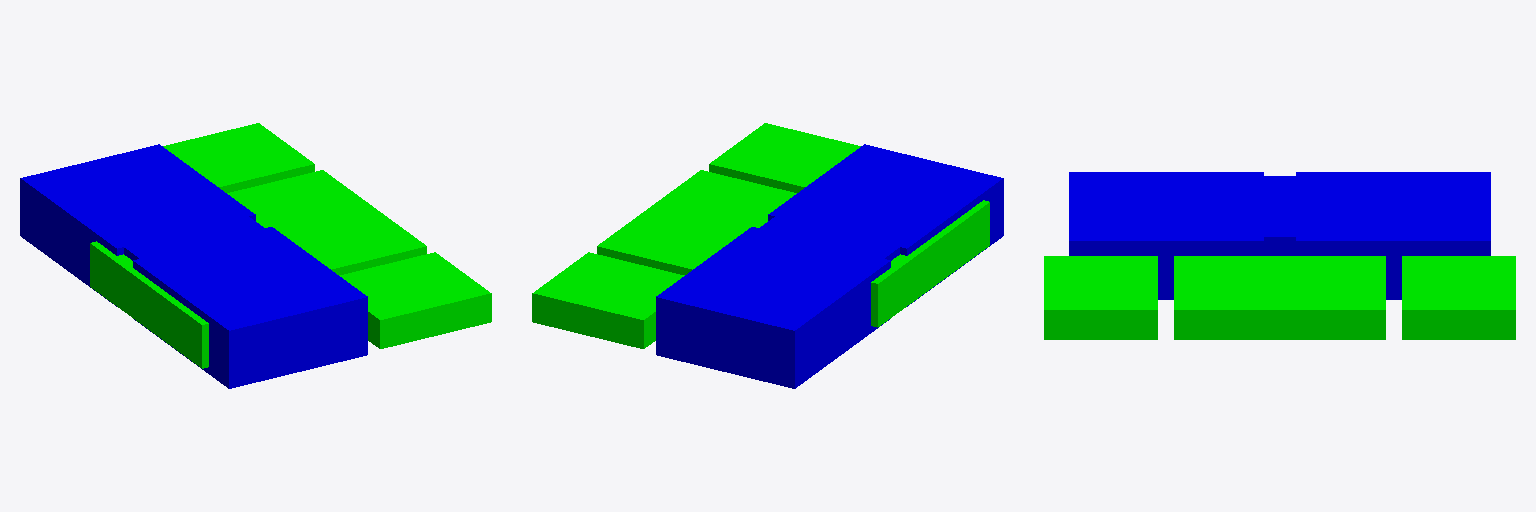
--- What the picture shows (computed from the rendered views, not written in the file) ---
The picture shows the robot from 3 angles, left to right: view 1: azimuth 30°, elevation 25°; view 2: azimuth 150°, elevation 25°; view 3: azimuth 270°, elevation 25°; orthographic projection.
Robot: robot — 32 links, 31 joints (31 revolute); root link root; default pose: every joint at zero.
Links seen in each view (by area): view 1: [phone redacted] (×26), 000, 010, 010-100, 010-110, 010-120; view 2: [phone redacted] (×26), 010, 000, 010-100, 010-110, 010-120; view 3: [phone redacted] (×26), 010-120, 010-110, 010-100.
Boxes of the visible links, box(x1,y1,x2,y2) form: [phone redacted] (×26): box(20, 123, 491, 388); 000: box(146, 283, 208, 368); 010: box(90, 241, 152, 326); 010-100: box(124, 237, 180, 260); 010-110: box(166, 227, 222, 248); 010-120: box(208, 217, 263, 237); [phone redacted] (×26): box(532, 123, 1003, 388); 010: box(871, 241, 933, 327); 000: box(928, 200, 989, 285); 010-100: box(843, 237, 899, 260); 010-110: box(801, 227, 857, 248); 010-120: box(760, 217, 815, 237); [phone redacted] (×26): box(1044, 172, 1515, 339); 010-120: box(1264, 217, 1295, 255); 010-110: box(1264, 196, 1295, 216); 010-100: box(1264, 176, 1295, 195).
Bounding box of the posed robot: 1.85 × 2.9 × 0.4 m (x, y, z).
Geometry: primitives only (box / cylinder / sphere), no mesh files.

robot.urdf — robot:
<robot name = "robot">
    <link name="root">
        <inertial>
            <origin xyz="0.0 0.0 1.5" rpy="0 0 0"/>
            <mass value="1" />
            <inertia ixx="100" ixy="0" ixz="0" iyy="100" iyz="0" izz="100" />
        </inertial>
        <visual>
            <origin xyz="0.0 0.0 1.5" rpy="0 0 0"/>
            <geometry>
                <box size="0 0 0.0001" />
            </geometry>
            <material name="Green">
                <color rgba="0 1.0 0.0 1.0"/>
            </material>
        </visual>
        <collision>
            <origin xyz="0.0 0.0 1.5" rpy="0 0 0"/>
            <geometry>
                <box size="0 0 0.0001" />
            </geometry>
        </collision>
    </link>
    <joint name="root_000" type="revolute">
       <parent link="root"/>
       <child  link="000"/>
       <origin rpy="0 0 0" xyz="0.0 0.0 1.5" />
     <axis xyz="1 0 0"/>
       <limit effort="0.0" lower="-3.14159" upper="3.14159" velocity="0.0"/>
    </joint>
    <link name="000">
        <inertial>
            <origin xyz="0.0 0.35 0.0" rpy="0 0 0"/>
            <mass value="1" />
            <inertia ixx="100" ixy="0" ixz="0" iyy="100" iyz="0" izz="100" />
        </inertial>
        <visual>
            <origin xyz="0.0 0.35 0.0" rpy="0 0 0"/>
            <geometry>
                <box size="0.1 0.7 0.3" />
            </geometry>
            <material name="Green">
                <color rgba="0 1.0 0.0 1.0"/>
            </material>
        </visual>
        <collision>
            <origin xyz="0.0 0.35 0.0" rpy="0 0 0"/>
            <geometry>
                <box size="0.1 0.7 0.3" />
            </geometry>
        </collision>
    </link>
    <joint name="000_010" type="revolute">
       <parent link="000"/>
       <child  link="010"/>
       <origin rpy="0 0 0" xyz="0.0 0.7 -0.0" />
     <axis xyz="0 1 0"/>
       <limit effort="0.0" lower="-3.14159" upper="3.14159" velocity="0.0"/>
    </joint>
    <link name="010">
        <inertial>
            <origin xyz="0.0 0.35 -0.0" rpy="0 0 0"/>
            <mass value="1" />
            <inertia ixx="100" ixy="0" ixz="0" iyy="100" iyz="0" izz="100" />
        </inertial>
        <visual>
            <origin xyz="0.0 0.35 -0.0" rpy="0 0 0"/>
            <geometry>
                <box size="0.1 0.7 0.3" />
            </geometry>
            <material name="Green">
                <color rgba="0 1.0 0.0 1.0"/>
            </material>
        </visual>
        <collision>
            <origin xyz="0.0 0.35 -0.0" rpy="0 0 0"/>
            <geometry>
                <box size="0.1 0.7 0.3" />
            </geometry>
        </collision>
    </link>
    <joint name="010_010-100" type="revolute">
       <parent link="010"/>
       <child  link="010-100"/>
       <origin rpy="0 0 0" xyz="0.05 0.35 -0.0" />
     <axis xyz="1 0 0"/>
       <limit effort="0.0" lower="-3.14159" upper="3.14159" velocity="0.0"/>
    </joint>
    <link name="010-100">
        <inertial>
            <origin xyz="0.15 0.0 -0.0" rpy="0 0 0"/>
            <mass value="1" />
            <inertia ixx="100" ixy="0" ixz="0" iyy="100" iyz="0" izz="100" />
        </inertial>
        <visual>
            <origin xyz="0.15 0.0 -0.0" rpy="0 0 0"/>
            <geometry>
                <box size="0.3 0.2 0.4" />
            </geometry>
            <material name="Blue">
                <color rgba="0 0.0 1.0 1.0"/>
            </material>
        </visual>
        <collision>
            <origin xyz="0.15 0.0 -0.0" rpy="0 0 0"/>
            <geometry>
                <box size="0.3 0.2 0.4" />
            </geometry>
        </collision>
    </link>
    <joint name="010-100_010-110" type="revolute">
       <parent link="010-100"/>
       <child  link="010-110"/>
       <origin rpy="0 0 0" xyz="0.3 0.0 -0.0" />
     <axis xyz="1 0 0"/>
       <limit effort="0.0" lower="-3.14159" upper="3.14159" velocity="0.0"/>
    </joint>
    <link name="010-110">
        <inertial>
            <origin xyz="0.15 0.0 -0.0" rpy="0 0 0"/>
            <mass value="1" />
            <inertia ixx="100" ixy="0" ixz="0" iyy="100" iyz="0" izz="100" />
        </inertial>
        <visual>
            <origin xyz="0.15 0.0 -0.0" rpy="0 0 0"/>
            <geometry>
                <box size="0.3 0.2 0.4" />
            </geometry>
            <material name="Blue">
                <color rgba="0 0.0 1.0 1.0"/>
            </material>
        </visual>
        <collision>
            <origin xyz="0.15 0.0 -0.0" rpy="0 0 0"/>
            <geometry>
                <box size="0.3 0.2 0.4" />
            </geometry>
        </collision>
    </link>
    <joint name="010-110_010-120" type="revolute">
       <parent link="010-110"/>
       <child  link="010-120"/>
       <origin rpy="0 0 0" xyz="0.3 0.0 -0.0" />
     <axis xyz="1 0 0"/>
       <limit effort="0.0" lower="-3.14159" upper="3.14159" velocity="0.0"/>
    </joint>
    <link name="010-120">
        <inertial>
            <origin xyz="0.15 0.0 -0.0" rpy="0 0 0"/>
            <mass value="1" />
            <inertia ixx="100" ixy="0" ixz="0" iyy="100" iyz="0" izz="100" />
        </inertial>
        <visual>
            <origin xyz="0.15 0.0 -0.0" rpy="0 0 0"/>
            <geometry>
                <box size="0.3 0.2 0.4" />
            </geometry>
            <material name="Blue">
                <color rgba="0 0.0 1.0 1.0"/>
            </material>
        </visual>
        <collision>
            <origin xyz="0.15 0.0 -0.0" rpy="0 0 0"/>
            <geometry>
                <box size="0.3 0.2 0.4" />
            </geometry>
        </collision>
    </link>
    <joint name="010-120_010-120-200" type="revolute">
       <parent link="010-120"/>
       <child  link="010-120-200"/>
       <origin rpy="0 0 0" xyz="0.15 0.1 -0.0" />
     <axis xyz="0 1 0"/>
       <limit effort="0.0" lower="-3.14159" upper="3.14159" velocity="0.0"/>
    </joint>
    <link name="010-120-200">
        <inertial>
            <origin xyz="0.0 0.2 -0.0" rpy="0 0 0"/>
            <mass value="1" />
            <inertia ixx="100" ixy="0" ixz="0" iyy="100" iyz="0" izz="100" />
        </inertial>
        <visual>
            <origin xyz="0.0 0.2 -0.0" rpy="0 0 0"/>
            <geometry>
                <box size="0.4 0.4 0.4" />
            </geometry>
            <material name="Blue">
                <color rgba="0 0.0 1.0 1.0"/>
            </material>
        </visual>
        <collision>
            <origin xyz="0.0 0.2 -0.0" rpy="0 0 0"/>
            <geometry>
                <box size="0.4 0.4 0.4" />
            </geometry>
        </collision>
    </link>
    <joint name="010-120-200_010-120-210" type="revolute">
       <parent link="010-120-200"/>
       <child  link="010-120-210"/>
       <origin rpy="0 0 0" xyz="0.0 0.4 -0.0" />
     <axis xyz="0 1 0"/>
       <limit effort="0.0" lower="-3.14159" upper="3.14159" velocity="0.0"/>
    </joint>
    <link name="010-120-210">
        <inertial>
            <origin xyz="0.0 0.2 -0.0" rpy="0 0 0"/>
            <mass value="1" />
            <inertia ixx="100" ixy="0" ixz="0" iyy="100" iyz="0" izz="100" />
        </inertial>
        <visual>
            <origin xyz="0.0 0.2 -0.0" rpy="0 0 0"/>
            <geometry>
                <box size="0.4 0.4 0.4" />
            </geometry>
            <material name="Blue">
                <color rgba="0 0.0 1.0 1.0"/>
            </material>
        </visual>
        <collision>
            <origin xyz="0.0 0.2 -0.0" rpy="0 0 0"/>
            <geometry>
                <box size="0.4 0.4 0.4" />
            </geometry>
        </collision>
    </link>
    <joint name="010-120-210_010-120-220" type="revolute">
       <parent link="010-120-210"/>
       <child  link="010-120-220"/>
       <origin rpy="0 0 0" xyz="0.0 0.4 -0.0" />
     <axis xyz="0 1 0"/>
       <limit effort="0.0" lower="-3.14159" upper="3.14159" velocity="0.0"/>
    </joint>
    <link name="010-120-220">
        <inertial>
            <origin xyz="0.0 0.2 -0.0" rpy="0 0 0"/>
            <mass value="1" />
            <inertia ixx="100" ixy="0" ixz="0" iyy="100" iyz="0" izz="100" />
        </inertial>
        <visual>
            <origin xyz="0.0 0.2 -0.0" rpy="0 0 0"/>
            <geometry>
                <box size="0.4 0.4 0.4" />
            </geometry>
            <material name="Blue">
                <color rgba="0 0.0 1.0 1.0"/>
            </material>
        </visual>
        <collision>
            <origin xyz="0.0 0.2 -0.0" rpy="0 0 0"/>
            <geometry>
                <box size="0.4 0.4 0.4" />
            </geometry>
        </collision>
    </link>
    <joint name="010-120-220_010-120-220-300" type="revolute">
       <parent link="010-120-220"/>
       <child  link="010-120-220-300"/>
       <origin rpy="0 0 0" xyz="0.2 0.2 -0.0" />
     <axis xyz="1 0 0"/>
       <limit effort="0.0" lower="-3.14159" upper="3.14159" velocity="0.0"/>
    </joint>
    <link name="010-120-220-300">
        <inertial>
            <origin xyz="0.2 0.0 -0.0" rpy="0 0 0"/>
            <mass value="1" />
            <inertia ixx="100" ixy="0" ixz="0" iyy="100" iyz="0" izz="100" />
        </inertial>
        <visual>
            <origin xyz="0.2 0.0 -0.0" rpy="0 0 0"/>
            <geometry>
                <box size="0.4 0.7 0.2" />
            </geometry>
            <material name="Green">
                <color rgba="0 1.0 0.0 1.0"/>
            </material>
        </visual>
        <collision>
            <origin xyz="0.2 0.0 -0.0" rpy="0 0 0"/>
            <geometry>
                <box size="0.4 0.7 0.2" />
            </geometry>
        </collision>
    </link>
    <joint name="010-120-220-300_010-120-220-310" type="revolute">
       <parent link="010-120-220-300"/>
       <child  link="010-120-220-310"/>
       <origin rpy="0 0 0" xyz="0.4 0.0 -0.0" />
     <axis xyz="1 0 0"/>
       <limit effort="0.0" lower="-3.14159" upper="3.14159" velocity="0.0"/>
    </joint>
    <link name="010-120-220-310">
        <inertial>
            <origin xyz="0.2 0.0 -0.0" rpy="0 0 0"/>
            <mass value="1" />
            <inertia ixx="100" ixy="0" ixz="0" iyy="100" iyz="0" izz="100" />
        </inertial>
        <visual>
            <origin xyz="0.2 0.0 -0.0" rpy="0 0 0"/>
            <geometry>
                <box size="0.4 0.7 0.2" />
            </geometry>
            <material name="Green">
                <color rgba="0 1.0 0.0 1.0"/>
            </material>
        </visual>
        <collision>
            <origin xyz="0.2 0.0 -0.0" rpy="0 0 0"/>
            <geometry>
                <box size="0.4 0.7 0.2" />
            </geometry>
        </collision>
    </link>
    <joint name="010-120-200_010-120-200-300" type="revolute">
       <parent link="010-120-200"/>
       <child  link="010-120-200-300"/>
       <origin rpy="0 0 0" xyz="0.2 0.2 -0.0" />
     <axis xyz="1 0 0"/>
       <limit effort="0.0" lower="-3.14159" upper="3.14159" velocity="0.0"/>
    </joint>
    <link name="010-120-200-300">
        <inertial>
            <origin xyz="0.2 0.0 -0.0" rpy="0 0 0"/>
            <mass value="1" />
            <inertia ixx="100" ixy="0" ixz="0" iyy="100" iyz="0" izz="100" />
        </inertial>
        <visual>
            <origin xyz="0.2 0.0 -0.0" rpy="0 0 0"/>
            <geometry>
                <box size="0.4 0.7 0.2" />
            </geometry>
            <material name="Green">
                <color rgba="0 1.0 0.0 1.0"/>
            </material>
        </visual>
        <collision>
            <origin xyz="0.2 0.0 -0.0" rpy="0 0 0"/>
            <geometry>
                <box size="0.4 0.7 0.2" />
            </geometry>
        </collision>
    </link>
    <joint name="010-120-200-300_010-120-200-310" type="revolute">
       <parent link="010-120-200-300"/>
       <child  link="010-120-200-310"/>
       <origin rpy="0 0 0" xyz="0.4 0.0 -0.0" />
     <axis xyz="1 0 0"/>
       <limit effort="0.0" lower="-3.14159" upper="3.14159" velocity="0.0"/>
    </joint>
    <link name="010-120-200-310">
        <inertial>
            <origin xyz="0.2 0.0 -0.0" rpy="0 0 0"/>
            <mass value="1" />
            <inertia ixx="100" ixy="0" ixz="0" iyy="100" iyz="0" izz="100" />
        </inertial>
        <visual>
            <origin xyz="0.2 0.0 -0.0" rpy="0 0 0"/>
            <geometry>
                <box size="0.4 0.7 0.2" />
            </geometry>
            <material name="Green">
                <color rgba="0 1.0 0.0 1.0"/>
            </material>
        </visual>
        <collision>
            <origin xyz="0.2 0.0 -0.0" rpy="0 0 0"/>
            <geometry>
                <box size="0.4 0.7 0.2" />
            </geometry>
        </collision>
    </link>
    <joint name="010-120_010-120-201" type="revolute">
       <parent link="010-120"/>
       <child  link="010-120-201"/>
       <origin rpy="0 0 0" xyz="0.15 -0.1 -0.0" />
     <axis xyz="0 1 0"/>
       <limit effort="0.0" lower="-3.14159" upper="3.14159" velocity="0.0"/>
    </joint>
    <link name="010-120-201">
        <inertial>
            <origin xyz="0.0 -0.2 -0.0" rpy="0 0 0"/>
            <mass value="1" />
            <inertia ixx="100" ixy="0" ixz="0" iyy="100" iyz="0" izz="100" />
        </inertial>
        <visual>
            <origin xyz="0.0 -0.2 -0.0" rpy="0 0 0"/>
            <geometry>
                <box size="0.4 0.4 0.4" />
            </geometry>
            <material name="Blue">
                <color rgba="0 0.0 1.0 1.0"/>
            </material>
        </visual>
        <collision>
            <origin xyz="0.0 -0.2 -0.0" rpy="0 0 0"/>
            <geometry>
                <box size="0.4 0.4 0.4" />
            </geometry>
        </collision>
    </link>
    <joint name="010-120-201_010-120-211" type="revolute">
       <parent link="010-120-201"/>
       <child  link="010-120-211"/>
       <origin rpy="0 0 0" xyz="0.0 -0.4 -0.0" />
     <axis xyz="0 1 0"/>
       <limit effort="0.0" lower="-3.14159" upper="3.14159" velocity="0.0"/>
    </joint>
    <link name="010-120-211">
        <inertial>
            <origin xyz="0.0 -0.2 -0.0" rpy="0 0 0"/>
            <mass value="1" />
            <inertia ixx="100" ixy="0" ixz="0" iyy="100" iyz="0" izz="100" />
        </inertial>
        <visual>
            <origin xyz="0.0 -0.2 -0.0" rpy="0 0 0"/>
            <geometry>
                <box size="0.4 0.4 0.4" />
            </geometry>
            <material name="Blue">
                <color rgba="0 0.0 1.0 1.0"/>
            </material>
        </visual>
        <collision>
            <origin xyz="0.0 -0.2 -0.0" rpy="0 0 0"/>
            <geometry>
                <box size="0.4 0.4 0.4" />
            </geometry>
        </collision>
    </link>
    <joint name="010-120-211_010-120-221" type="revolute">
       <parent link="010-120-211"/>
       <child  link="010-120-221"/>
       <origin rpy="0 0 0" xyz="0.0 -0.4 -0.0" />
     <axis xyz="0 1 0"/>
       <limit effort="0.0" lower="-3.14159" upper="3.14159" velocity="0.0"/>
    </joint>
    <link name="010-120-221">
        <inertial>
            <origin xyz="0.0 -0.2 -0.0" rpy="0 0 0"/>
            <mass value="1" />
            <inertia ixx="100" ixy="0" ixz="0" iyy="100" iyz="0" izz="100" />
        </inertial>
        <visual>
            <origin xyz="0.0 -0.2 -0.0" rpy="0 0 0"/>
            <geometry>
                <box size="0.4 0.4 0.4" />
            </geometry>
            <material name="Blue">
                <color rgba="0 0.0 1.0 1.0"/>
            </material>
        </visual>
        <collision>
            <origin xyz="0.0 -0.2 -0.0" rpy="0 0 0"/>
            <geometry>
                <box size="0.4 0.4 0.4" />
            </geometry>
        </collision>
    </link>
    <joint name="010-120-221_010-120-221-300" type="revolute">
       <parent link="010-120-221"/>
       <child  link="010-120-221-300"/>
       <origin rpy="0 0 0" xyz="0.2 -0.2 -0.0" />
     <axis xyz="1 0 0"/>
       <limit effort="0.0" lower="-3.14159" upper="3.14159" velocity="0.0"/>
    </joint>
    <link name="010-120-221-300">
        <inertial>
            <origin xyz="0.2 -0.0 -0.0" rpy="0 0 0"/>
            <mass value="1" />
            <inertia ixx="100" ixy="0" ixz="0" iyy="100" iyz="0" izz="100" />
        </inertial>
        <visual>
            <origin xyz="0.2 -0.0 -0.0" rpy="0 0 0"/>
            <geometry>
                <box size="0.4 0.7 0.2" />
            </geometry>
            <material name="Green">
                <color rgba="0 1.0 0.0 1.0"/>
            </material>
        </visual>
        <collision>
            <origin xyz="0.2 -0.0 -0.0" rpy="0 0 0"/>
            <geometry>
                <box size="0.4 0.7 0.2" />
            </geometry>
        </collision>
    </link>
    <joint name="010-120-221-300_010-120-221-310" type="revolute">
       <parent link="010-120-221-300"/>
       <child  link="010-120-221-310"/>
       <origin rpy="0 0 0" xyz="0.4 -0.0 -0.0" />
     <axis xyz="1 0 0"/>
       <limit effort="0.0" lower="-3.14159" upper="3.14159" velocity="0.0"/>
    </joint>
    <link name="010-120-221-310">
        <inertial>
            <origin xyz="0.2 -0.0 -0.0" rpy="0 0 0"/>
            <mass value="1" />
            <inertia ixx="100" ixy="0" ixz="0" iyy="100" iyz="0" izz="100" />
        </inertial>
        <visual>
            <origin xyz="0.2 -0.0 -0.0" rpy="0 0 0"/>
            <geometry>
                <box size="0.4 0.7 0.2" />
            </geometry>
            <material name="Green">
                <color rgba="0 1.0 0.0 1.0"/>
            </material>
        </visual>
        <collision>
            <origin xyz="0.2 -0.0 -0.0" rpy="0 0 0"/>
            <geometry>
                <box size="0.4 0.7 0.2" />
            </geometry>
        </collision>
    </link>
    <joint name="010-120-201_010-120-201-300" type="revolute">
       <parent link="010-120-201"/>
       <child  link="010-120-201-300"/>
       <origin rpy="0 0 0" xyz="0.2 -0.2 -0.0" />
     <axis xyz="1 0 0"/>
       <limit effort="0.0" lower="-3.14159" upper="3.14159" velocity="0.0"/>
    </joint>
    <link name="010-120-201-300">
        <inertial>
            <origin xyz="0.2 -0.0 -0.0" rpy="0 0 0"/>
            <mass value="1" />
            <inertia ixx="100" ixy="0" ixz="0" iyy="100" iyz="0" izz="100" />
        </inertial>
        <visual>
            <origin xyz="0.2 -0.0 -0.0" rpy="0 0 0"/>
            <geometry>
                <box size="0.4 0.7 0.2" />
            </geometry>
            <material name="Green">
                <color rgba="0 1.0 0.0 1.0"/>
            </material>
        </visual>
        <collision>
            <origin xyz="0.2 -0.0 -0.0" rpy="0 0 0"/>
            <geometry>
                <box size="0.4 0.7 0.2" />
            </geometry>
        </collision>
    </link>
    <joint name="010-120-201-300_010-120-201-310" type="revolute">
       <parent link="010-120-201-300"/>
       <child  link="010-120-201-310"/>
       <origin rpy="0 0 0" xyz="0.4 -0.0 -0.0" />
     <axis xyz="1 0 0"/>
       <limit effort="0.0" lower="-3.14159" upper="3.14159" velocity="0.0"/>
    </joint>
    <link name="010-120-201-310">
        <inertial>
            <origin xyz="0.2 -0.0 -0.0" rpy="0 0 0"/>
            <mass value="1" />
            <inertia ixx="100" ixy="0" ixz="0" iyy="100" iyz="0" izz="100" />
        </inertial>
        <visual>
            <origin xyz="0.2 -0.0 -0.0" rpy="0 0 0"/>
            <geometry>
                <box size="0.4 0.7 0.2" />
            </geometry>
            <material name="Green">
                <color rgba="0 1.0 0.0 1.0"/>
            </material>
        </visual>
        <collision>
            <origin xyz="0.2 -0.0 -0.0" rpy="0 0 0"/>
            <geometry>
                <box size="0.4 0.7 0.2" />
            </geometry>
        </collision>
    </link>
    <joint name="010-110_010-110-200" type="revolute">
       <parent link="010-110"/>
       <child  link="010-110-200"/>
       <origin rpy="0 0 0" xyz="0.15 0.1 -0.0" />
     <axis xyz="0 1 0"/>
       <limit effort="0.0" lower="-3.14159" upper="3.14159" velocity="0.0"/>
    </joint>
    <link name="010-110-200">
        <inertial>
            <origin xyz="0.0 0.2 -0.0" rpy="0 0 0"/>
            <mass value="1" />
            <inertia ixx="100" ixy="0" ixz="0" iyy="100" iyz="0" izz="100" />
        </inertial>
        <visual>
            <origin xyz="0.0 0.2 -0.0" rpy="0 0 0"/>
            <geometry>
                <box size="0.4 0.4 0.4" />
            </geometry>
            <material name="Blue">
                <color rgba="0 0.0 1.0 1.0"/>
            </material>
        </visual>
        <collision>
            <origin xyz="0.0 0.2 -0.0" rpy="0 0 0"/>
            <geometry>
                <box size="0.4 0.4 0.4" />
            </geometry>
        </collision>
    </link>
    <joint name="010-110-200_010-110-210" type="revolute">
       <parent link="010-110-200"/>
       <child  link="010-110-210"/>
       <origin rpy="0 0 0" xyz="0.0 0.4 -0.0" />
     <axis xyz="0 1 0"/>
       <limit effort="0.0" lower="-3.14159" upper="3.14159" velocity="0.0"/>
    </joint>
    <link name="010-110-210">
        <inertial>
            <origin xyz="0.0 0.2 -0.0" rpy="0 0 0"/>
            <mass value="1" />
            <inertia ixx="100" ixy="0" ixz="0" iyy="100" iyz="0" izz="100" />
        </inertial>
        <visual>
            <origin xyz="0.0 0.2 -0.0" rpy="0 0 0"/>
            <geometry>
                <box size="0.4 0.4 0.4" />
            </geometry>
            <material name="Blue">
                <color rgba="0 0.0 1.0 1.0"/>
            </material>
        </visual>
        <collision>
            <origin xyz="0.0 0.2 -0.0" rpy="0 0 0"/>
            <geometry>
                <box size="0.4 0.4 0.4" />
            </geometry>
        </collision>
    </link>
    <joint name="010-110-210_010-110-220" type="revolute">
       <parent link="010-110-210"/>
       <child  link="010-110-220"/>
       <origin rpy="0 0 0" xyz="0.0 0.4 -0.0" />
     <axis xyz="0 1 0"/>
       <limit effort="0.0" lower="-3.14159" upper="3.14159" velocity="0.0"/>
    </joint>
    <link name="010-110-220">
        <inertial>
            <origin xyz="0.0 0.2 -0.0" rpy="0 0 0"/>
            <mass value="1" />
            <inertia ixx="100" ixy="0" ixz="0" iyy="100" iyz="0" izz="100" />
        </inertial>
        <visual>
            <origin xyz="0.0 0.2 -0.0" rpy="0 0 0"/>
            <geometry>
                <box size="0.4 0.4 0.4" />
            </geometry>
            <material name="Blue">
                <color rgba="0 0.0 1.0 1.0"/>
            </material>
        </visual>
        <collision>
            <origin xyz="0.0 0.2 -0.0" rpy="0 0 0"/>
            <geometry>
                <box size="0.4 0.4 0.4" />
            </geometry>
        </collision>
    </link>
    <joint name="010-110_010-110-201" type="revolute">
       <parent link="010-110"/>
       <child  link="010-110-201"/>
       <origin rpy="0 0 0" xyz="0.15 -0.1 -0.0" />
     <axis xyz="0 1 0"/>
       <limit effort="0.0" lower="-3.14159" upper="3.14159" velocity="0.0"/>
    </joint>
    <link name="010-110-201">
        <inertial>
            <origin xyz="0.0 -0.2 -0.0" rpy="0 0 0"/>
            <mass value="1" />
            <inertia ixx="100" ixy="0" ixz="0" iyy="100" iyz="0" izz="100" />
        </inertial>
        <visual>
            <origin xyz="0.0 -0.2 -0.0" rpy="0 0 0"/>
            <geometry>
                <box size="0.4 0.4 0.4" />
            </geometry>
            <material name="Blue">
                <color rgba="0 0.0 1.0 1.0"/>
            </material>
        </visual>
        <collision>
            <origin xyz="0.0 -0.2 -0.0" rpy="0 0 0"/>
            <geometry>
                <box size="0.4 0.4 0.4" />
            </geometry>
        </collision>
    </link>
    <joint name="010-110-201_010-110-211" type="revolute">
       <parent link="010-110-201"/>
       <child  link="010-110-211"/>
       <origin rpy="0 0 0" xyz="0.0 -0.4 -0.0" />
     <axis xyz="0 1 0"/>
       <limit effort="0.0" lower="-3.14159" upper="3.14159" velocity="0.0"/>
    </joint>
    <link name="010-110-211">
        <inertial>
            <origin xyz="0.0 -0.2 -0.0" rpy="0 0 0"/>
            <mass value="1" />
            <inertia ixx="100" ixy="0" ixz="0" iyy="100" iyz="0" izz="100" />
        </inertial>
        <visual>
            <origin xyz="0.0 -0.2 -0.0" rpy="0 0 0"/>
            <geometry>
                <box size="0.4 0.4 0.4" />
            </geometry>
            <material name="Blue">
                <color rgba="0 0.0 1.0 1.0"/>
            </material>
        </visual>
        <collision>
            <origin xyz="0.0 -0.2 -0.0" rpy="0 0 0"/>
            <geometry>
                <box size="0.4 0.4 0.4" />
            </geometry>
        </collision>
    </link>
    <joint name="010-110-211_010-110-221" type="revolute">
       <parent link="010-110-211"/>
       <child  link="010-110-221"/>
       <origin rpy="0 0 0" xyz="0.0 -0.4 -0.0" />
     <axis xyz="0 1 0"/>
       <limit effort="0.0" lower="-3.14159" upper="3.14159" velocity="0.0"/>
    </joint>
    <link name="010-110-221">
        <inertial>
            <origin xyz="0.0 -0.2 -0.0" rpy="0 0 0"/>
            <mass value="1" />
            <inertia ixx="100" ixy="0" ixz="0" iyy="100" iyz="0" izz="100" />
        </inertial>
        <visual>
            <origin xyz="0.0 -0.2 -0.0" rpy="0 0 0"/>
            <geometry>
                <box size="0.4 0.4 0.4" />
            </geometry>
            <material name="Blue">
                <color rgba="0 0.0 1.0 1.0"/>
            </material>
        </visual>
        <collision>
            <origin xyz="0.0 -0.2 -0.0" rpy="0 0 0"/>
            <geometry>
                <box size="0.4 0.4 0.4" />
            </geometry>
        </collision>
    </link>
    <joint name="010-100_010-100-200" type="revolute">
       <parent link="010-100"/>
       <child  link="010-100-200"/>
       <origin rpy="0 0 0" xyz="0.15 0.1 -0.0" />
     <axis xyz="0 1 0"/>
       <limit effort="0.0" lower="-3.14159" upper="3.14159" velocity="0.0"/>
    </joint>
    <link name="010-100-200">
        <inertial>
            <origin xyz="0.0 0.2 -0.0" rpy="0 0 0"/>
            <mass value="1" />
            <inertia ixx="100" ixy="0" ixz="0" iyy="100" iyz="0" izz="100" />
        </inertial>
        <visual>
            <origin xyz="0.0 0.2 -0.0" rpy="0 0 0"/>
            <geometry>
                <box size="0.4 0.4 0.4" />
            </geometry>
            <material name="Blue">
                <color rgba="0 0.0 1.0 1.0"/>
            </material>
        </visual>
        <collision>
            <origin xyz="0.0 0.2 -0.0" rpy="0 0 0"/>
            <geometry>
                <box size="0.4 0.4 0.4" />
            </geometry>
        </collision>
    </link>
    <joint name="010-100-200_010-100-210" type="revolute">
       <parent link="010-100-200"/>
       <child  link="010-100-210"/>
       <origin rpy="0 0 0" xyz="0.0 0.4 -0.0" />
     <axis xyz="0 1 0"/>
       <limit effort="0.0" lower="-3.14159" upper="3.14159" velocity="0.0"/>
    </joint>
    <link name="010-100-210">
        <inertial>
            <origin xyz="0.0 0.2 -0.0" rpy="0 0 0"/>
            <mass value="1" />
            <inertia ixx="100" ixy="0" ixz="0" iyy="100" iyz="0" izz="100" />
        </inertial>
        <visual>
            <origin xyz="0.0 0.2 -0.0" rpy="0 0 0"/>
            <geometry>
                <box size="0.4 0.4 0.4" />
            </geometry>
            <material name="Blue">
                <color rgba="0 0.0 1.0 1.0"/>
            </material>
        </visual>
        <collision>
            <origin xyz="0.0 0.2 -0.0" rpy="0 0 0"/>
            <geometry>
                <box size="0.4 0.4 0.4" />
            </geometry>
        </collision>
    </link>
    <joint name="010-100-210_010-100-220" type="revolute">
       <parent link="010-100-210"/>
       <child  link="010-100-220"/>
       <origin rpy="0 0 0" xyz="0.0 0.4 -0.0" />
     <axis xyz="0 1 0"/>
       <limit effort="0.0" lower="-3.14159" upper="3.14159" velocity="0.0"/>
    </joint>
    <link name="010-100-220">
        <inertial>
            <origin xyz="0.0 0.2 -0.0" rpy="0 0 0"/>
            <mass value="1" />
            <inertia ixx="100" ixy="0" ixz="0" iyy="100" iyz="0" izz="100" />
        </inertial>
        <visual>
            <origin xyz="0.0 0.2 -0.0" rpy="0 0 0"/>
            <geometry>
                <box size="0.4 0.4 0.4" />
            </geometry>
            <material name="Blue">
                <color rgba="0 0.0 1.0 1.0"/>
            </material>
        </visual>
        <collision>
            <origin xyz="0.0 0.2 -0.0" rpy="0 0 0"/>
            <geometry>
                <box size="0.4 0.4 0.4" />
            </geometry>
        </collision>
    </link>
    <joint name="010-100_010-100-201" type="revolute">
       <parent link="010-100"/>
       <child  link="010-100-201"/>
       <origin rpy="0 0 0" xyz="0.15 -0.1 -0.0" />
     <axis xyz="0 1 0"/>
       <limit effort="0.0" lower="-3.14159" upper="3.14159" velocity="0.0"/>
    </joint>
    <link name="010-100-201">
        <inertial>
            <origin xyz="0.0 -0.2 -0.0" rpy="0 0 0"/>
            <mass value="1" />
            <inertia ixx="100" ixy="0" ixz="0" iyy="100" iyz="0" izz="100" />
        </inertial>
        <visual>
            <origin xyz="0.0 -0.2 -0.0" rpy="0 0 0"/>
            <geometry>
                <box size="0.4 0.4 0.4" />
            </geometry>
            <material name="Blue">
                <color rgba="0 0.0 1.0 1.0"/>
            </material>
        </visual>
        <collision>
            <origin xyz="0.0 -0.2 -0.0" rpy="0 0 0"/>
            <geometry>
                <box size="0.4 0.4 0.4" />
            </geometry>
        </collision>
    </link>
    <joint name="010-100-201_010-100-211" type="revolute">
       <parent link="010-100-201"/>
       <child  link="010-100-211"/>
       <origin rpy="0 0 0" xyz="0.0 -0.4 -0.0" />
     <axis xyz="0 1 0"/>
       <limit effort="0.0" lower="-3.14159" upper="3.14159" velocity="0.0"/>
    </joint>
    <link name="010-100-211">
        <inertial>
            <origin xyz="0.0 -0.2 -0.0" rpy="0 0 0"/>
            <mass value="1" />
            <inertia ixx="100" ixy="0" ixz="0" iyy="100" iyz="0" izz="100" />
        </inertial>
        <visual>
            <origin xyz="0.0 -0.2 -0.0" rpy="0 0 0"/>
            <geometry>
                <box size="0.4 0.4 0.4" />
            </geometry>
            <material name="Blue">
                <color rgba="0 0.0 1.0 1.0"/>
            </material>
        </visual>
        <collision>
            <origin xyz="0.0 -0.2 -0.0" rpy="0 0 0"/>
            <geometry>
                <box size="0.4 0.4 0.4" />
            </geometry>
        </collision>
    </link>
    <joint name="010-100-211_010-100-221" type="revolute">
       <parent link="010-100-211"/>
       <child  link="010-100-221"/>
       <origin rpy="0 0 0" xyz="0.0 -0.4 -0.0" />
     <axis xyz="0 1 0"/>
       <limit effort="0.0" lower="-3.14159" upper="3.14159" velocity="0.0"/>
    </joint>
    <link name="010-100-221">
        <inertial>
            <origin xyz="0.0 -0.2 -0.0" rpy="0 0 0"/>
            <mass value="1" />
            <inertia ixx="100" ixy="0" ixz="0" iyy="100" iyz="0" izz="100" />
        </inertial>
        <visual>
            <origin xyz="0.0 -0.2 -0.0" rpy="0 0 0"/>
            <geometry>
                <box size="0.4 0.4 0.4" />
            </geometry>
            <material name="Blue">
                <color rgba="0 0.0 1.0 1.0"/>
            </material>
        </visual>
        <collision>
            <origin xyz="0.0 -0.2 -0.0" rpy="0 0 0"/>
            <geometry>
                <box size="0.4 0.4 0.4" />
            </geometry>
        </collision>
    </link>
</robot>
